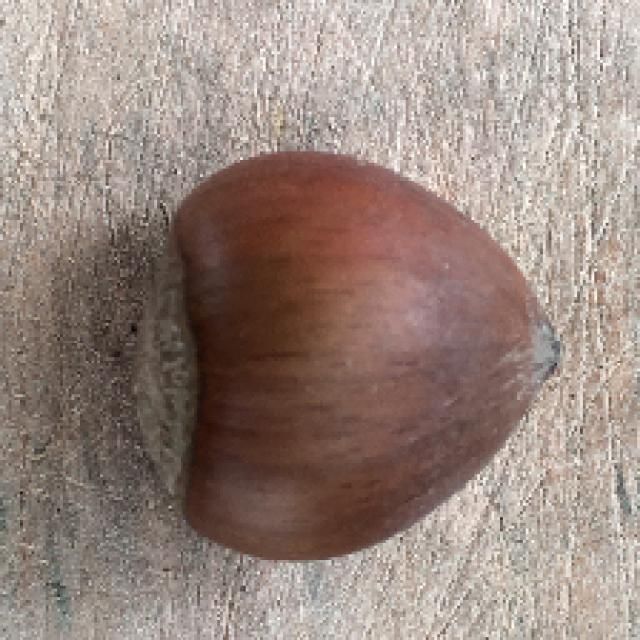qualityHazelnut: (123, 148, 572, 557)
